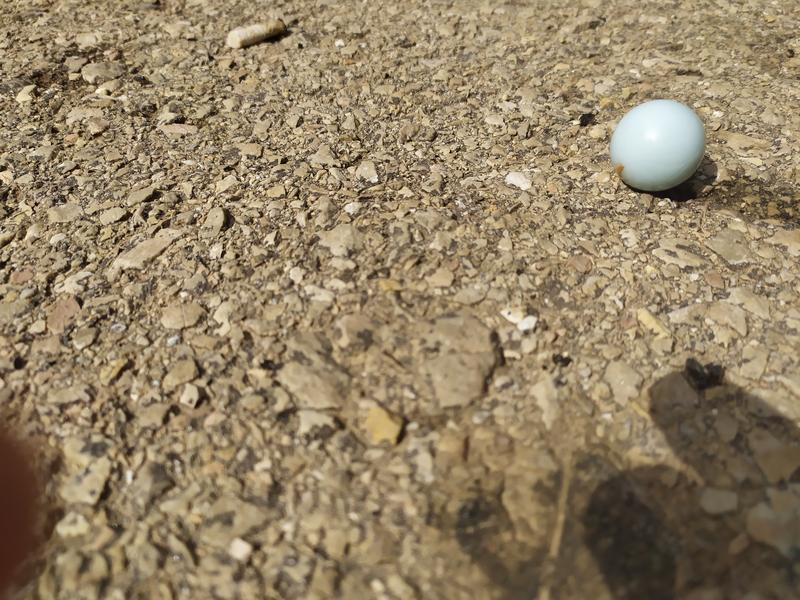Warning: (607, 96, 709, 196)
